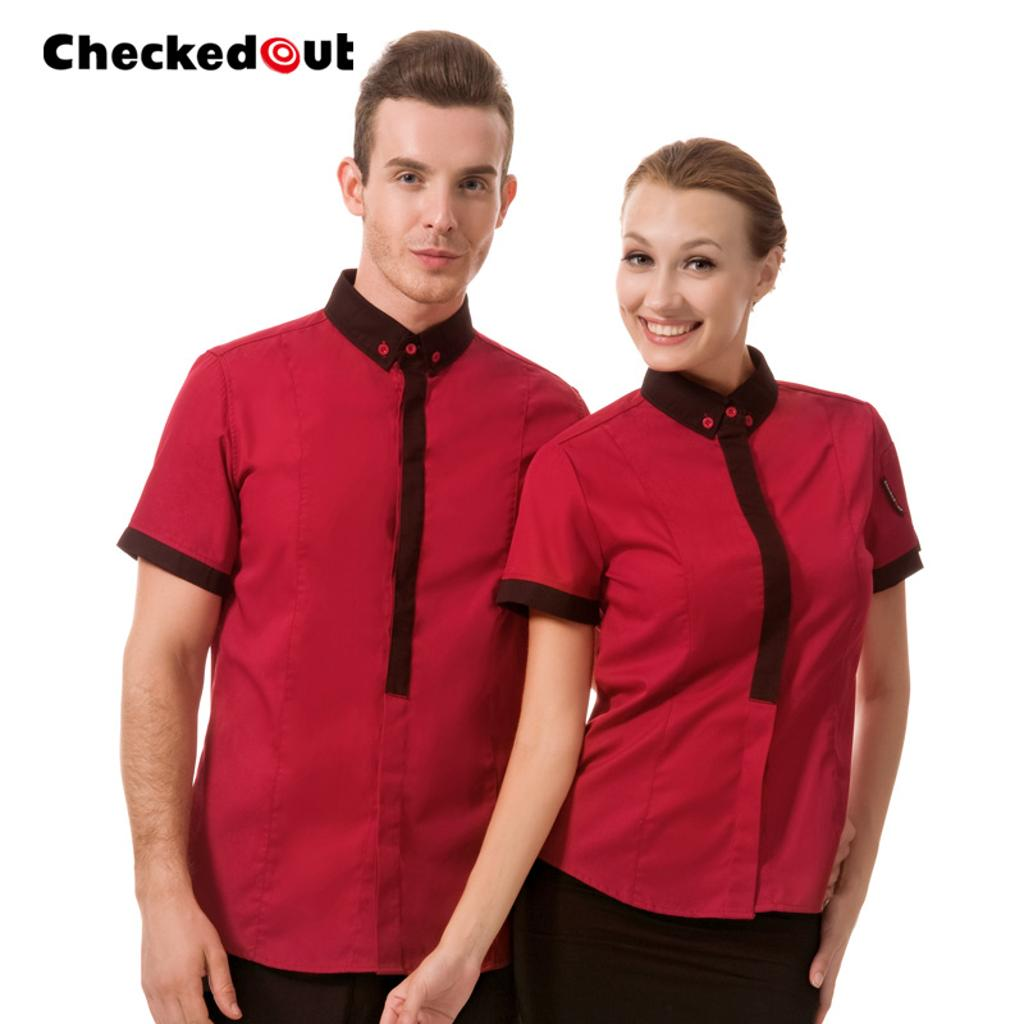face: (362, 100, 500, 298), (614, 186, 752, 372)
